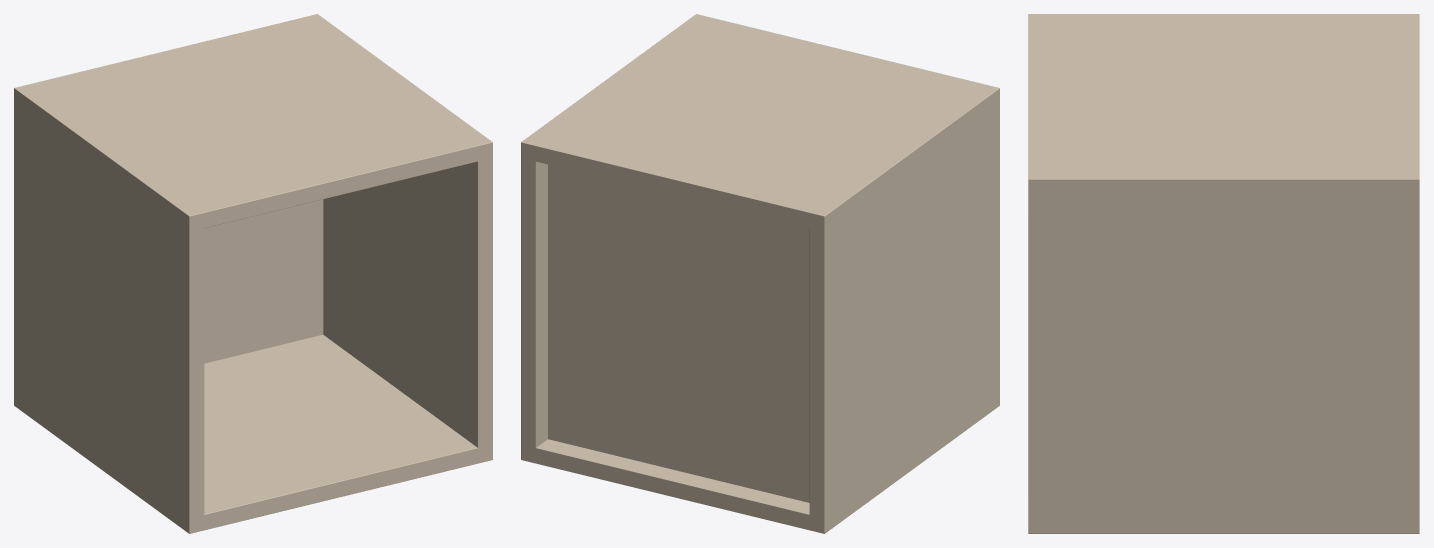
The model's file is MOD-1X1-A-B-AR.glb.
3 views of the same model, side by side, from view 1: azimuth 30°, elevation 25°; view 2: azimuth 150°, elevation 25°; view 3: azimuth 270°, elevation 25° (orthographic). The views are drawn at different scales.
Size of the model in its own units: 360 by 360 by 360.
